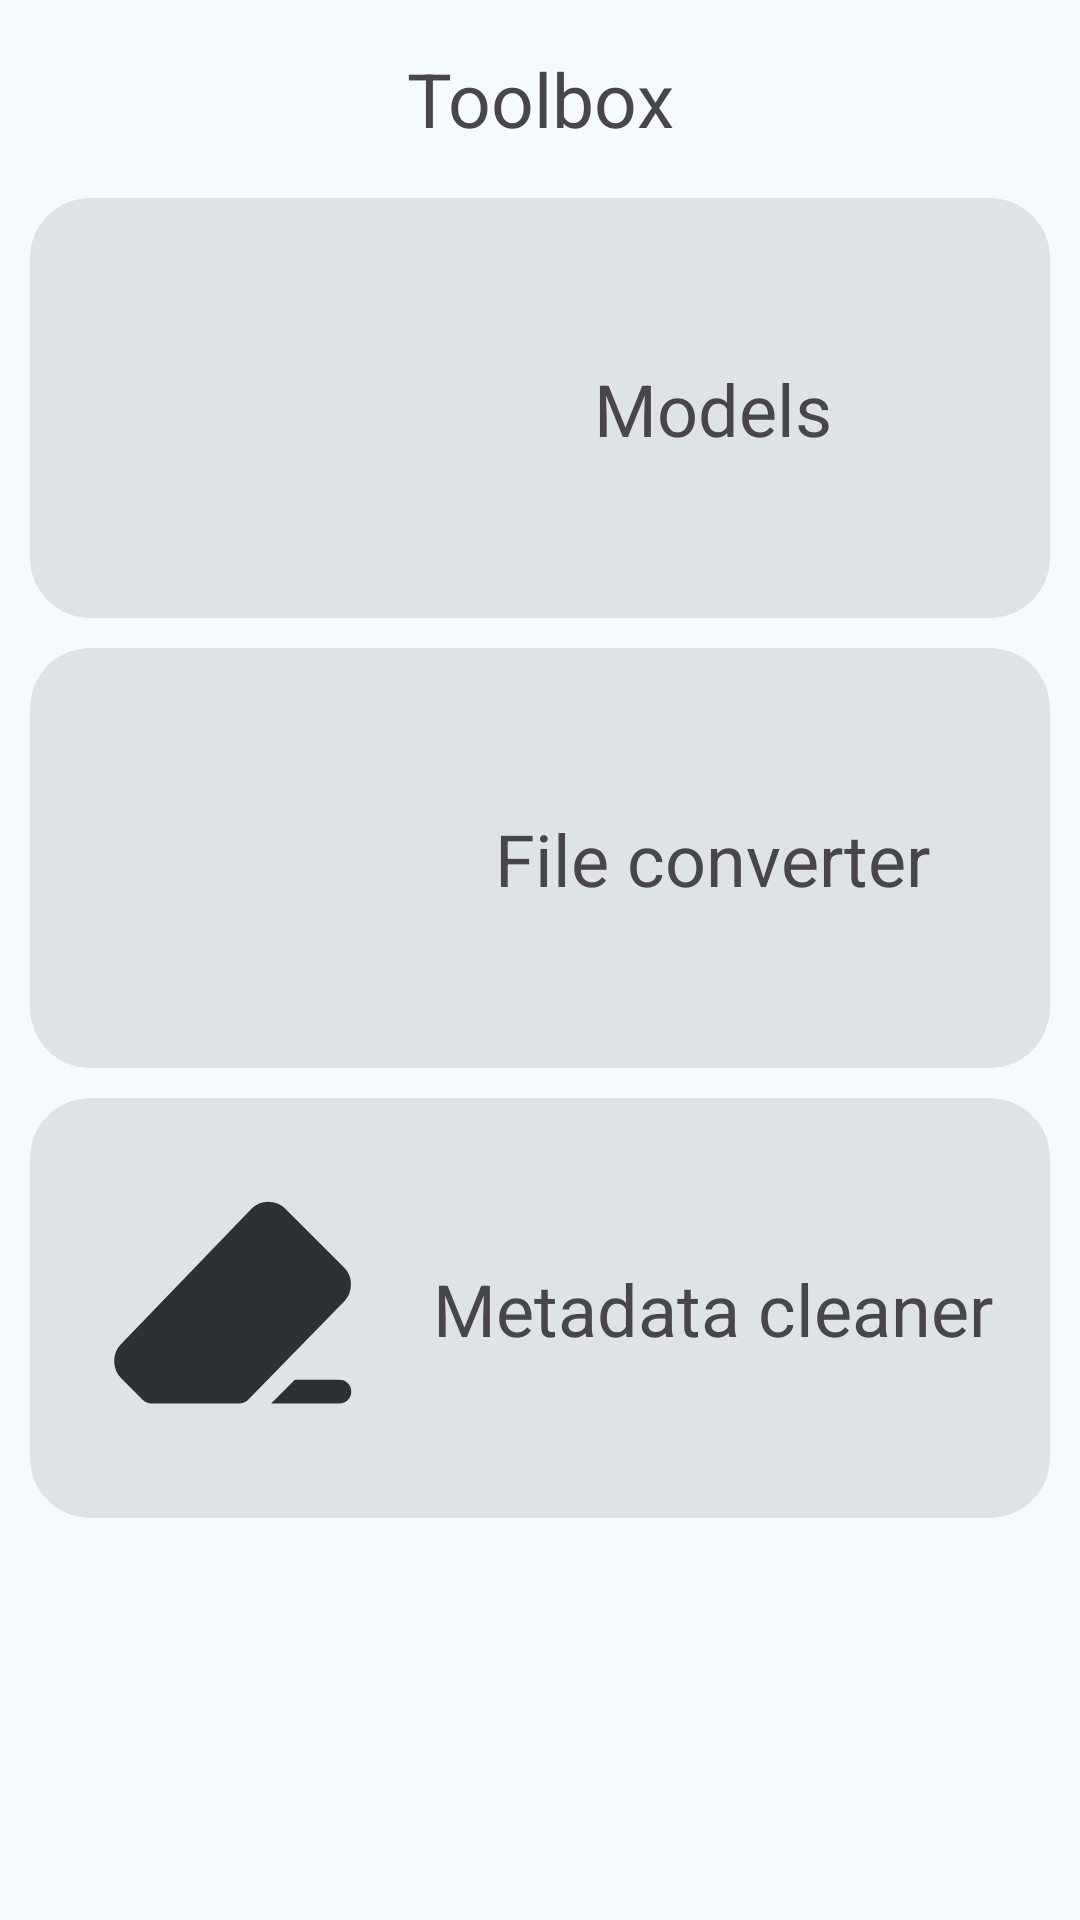

Icon bounding boxes for this 1080px×1920px phone screenshot, format box(x1, y1, x2, y2):
ink eraser: box(114, 1201, 352, 1404)
